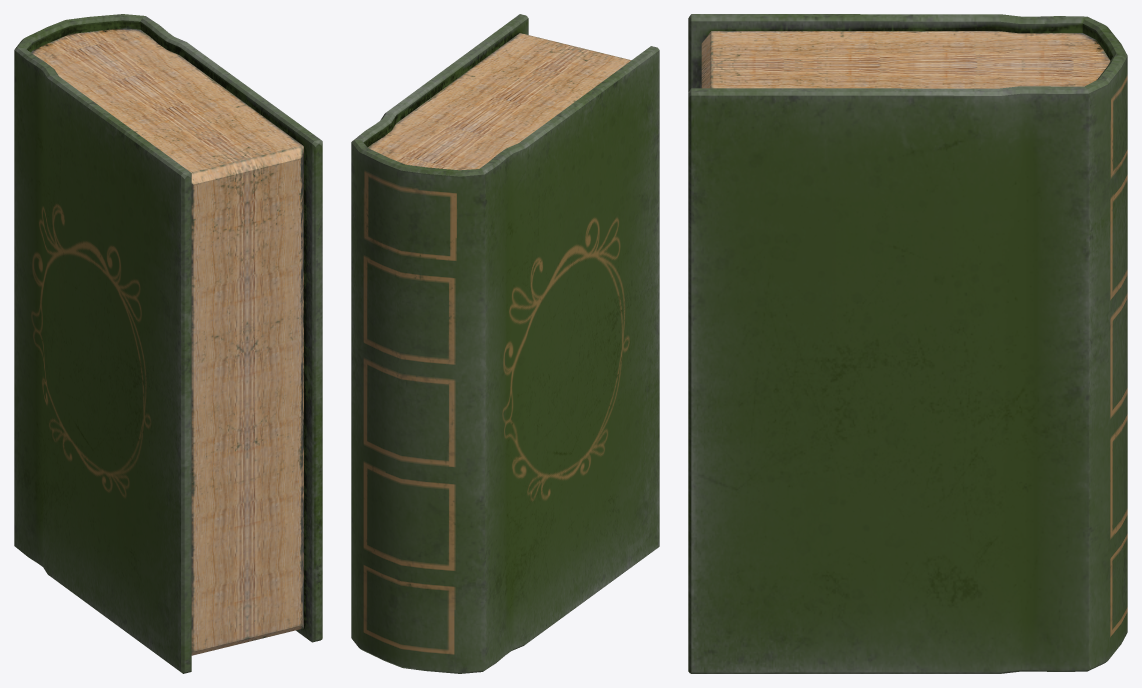
File: 3DArt_Props_Books_Model_Amanda_V01.fbx
3 views of the same model, side by side, from view 1: azimuth 30°, elevation 25°; view 2: azimuth 150°, elevation 25°; view 3: azimuth 270°, elevation 25° (orthographic). The views are drawn at different scales.
Visible parts, largest first — view 1: Book_01; view 2: Book_01; view 3: Book_01.
Boxes of the visible parts, x1,y1,x2,y2 form: Book_01: [14, 14, 322, 673]; Book_01: [351, 14, 659, 673]; Book_01: [688, 14, 1127, 673].
Bounding box in the file's own units: 6.72 × 22.69 × 15.52.
